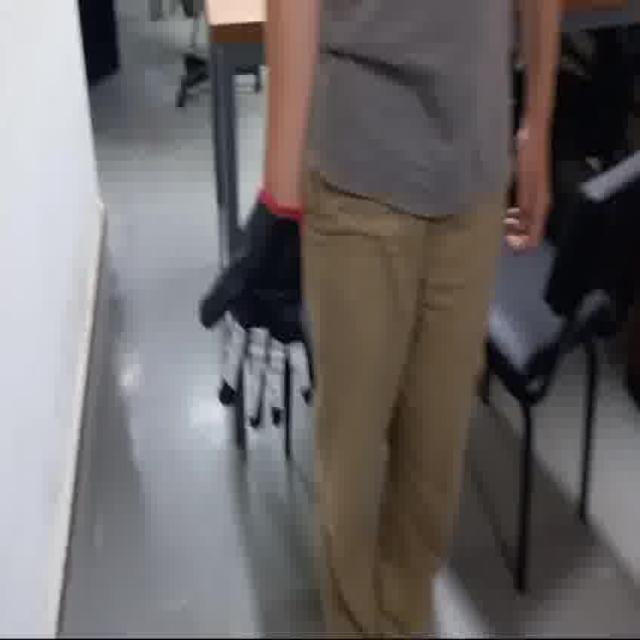Gloves: (200, 167, 326, 413)
